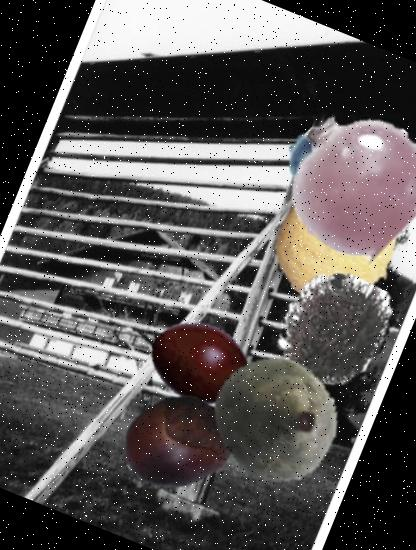Avocado: (300, 264, 368, 331)
Beetroot: (190, 332, 368, 509)
Cactus: (298, 132, 415, 249)
Cantaloupe: (254, 157, 416, 326)
Chestnut: (107, 375, 244, 513)
Huckleberry: (274, 116, 355, 196)
Rambutan: (258, 255, 408, 404)
Redcurrant: (264, 89, 416, 273)
Tamarillo: (131, 292, 277, 438)
